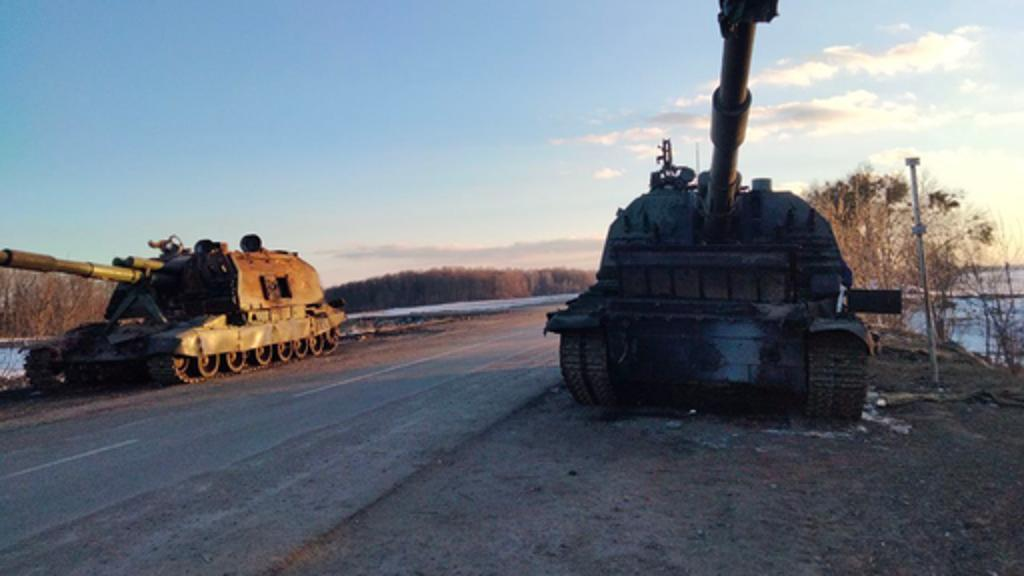ART: (540, 2, 902, 416), (0, 232, 350, 384)
